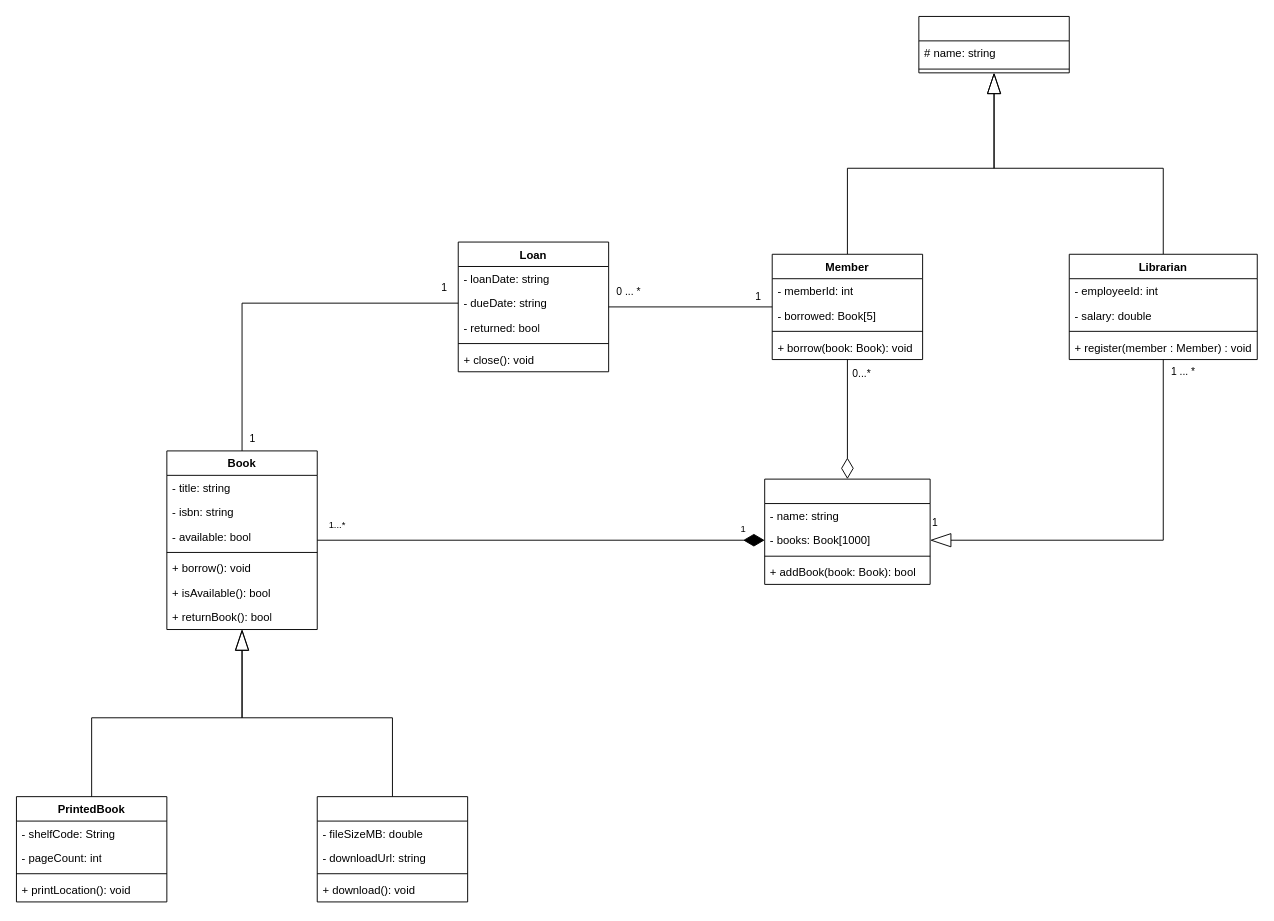
Some shapes in this 1274 by 921 pixel diagram are drawn without their labels. The shapes that lost their labels are listed below. From the top down, each one's box as (x1, y1, x2, y2) in pixels, then its label:
(918, 16, 1069, 73): Person
(764, 478, 930, 584): Library
(316, 796, 468, 902): EBook
